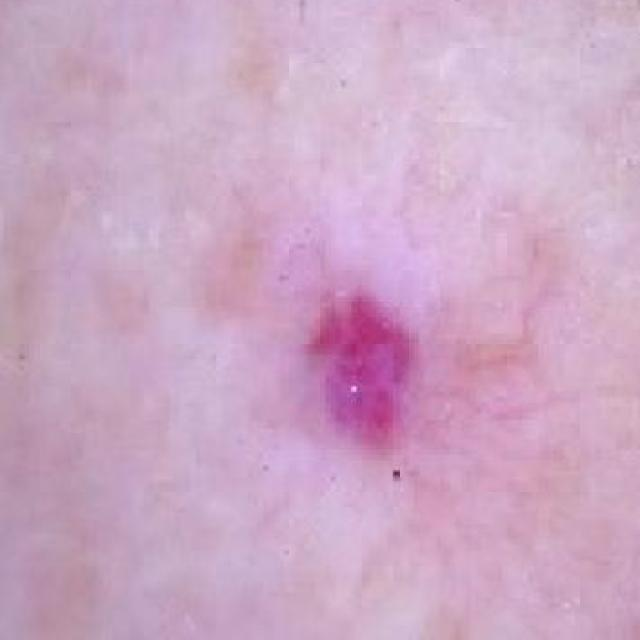VASC: (229, 207, 437, 509)
